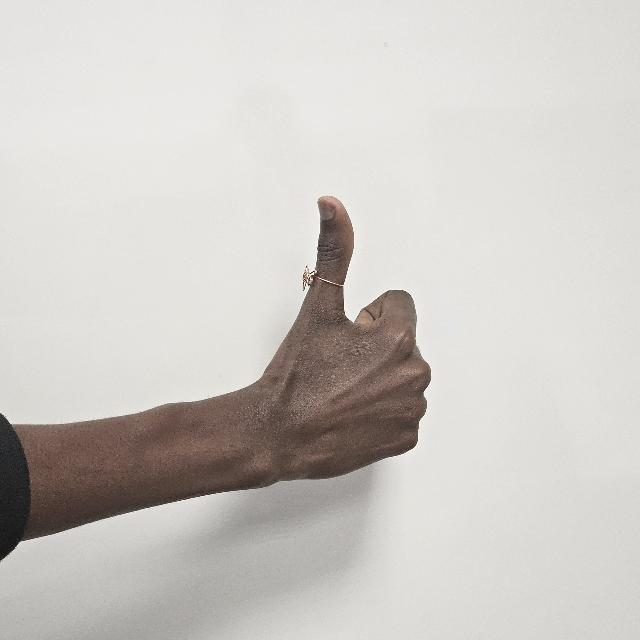Start: (253, 192, 432, 502)
